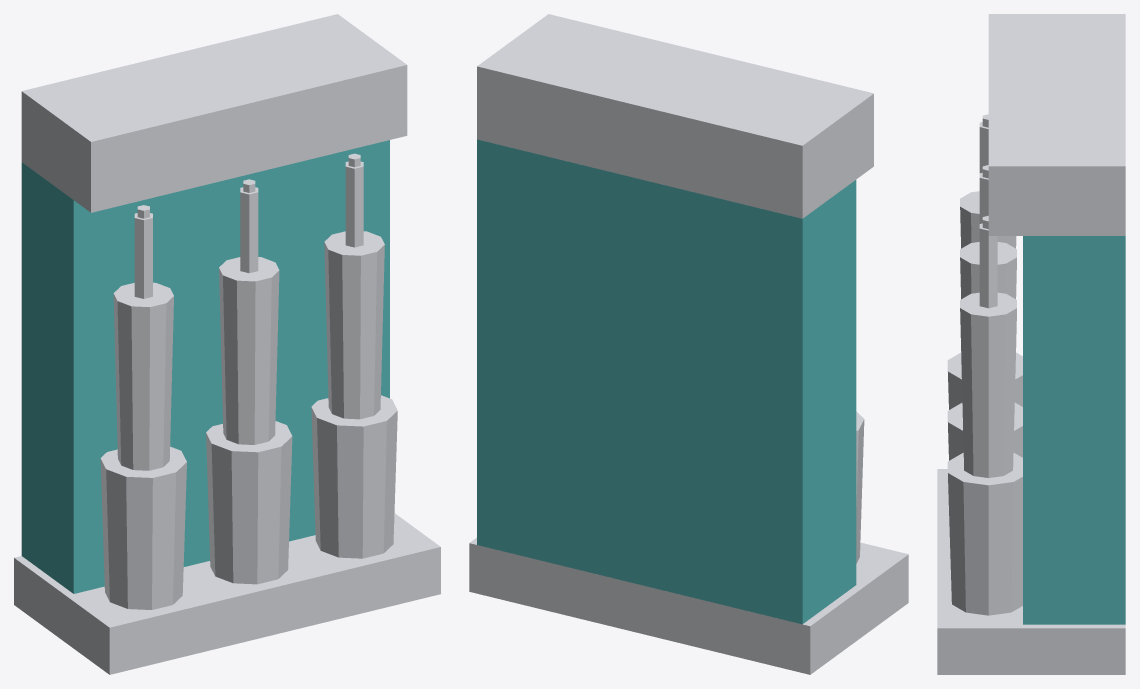
File: retro-diner-and-roadside-motel-milkshake-mixer-1b64f82b__37336.glb
3 renders of one model, left to right at view 1: azimuth 30°, elevation 25°; view 2: azimuth 150°, elevation 25°; view 3: azimuth 270°, elevation 25°, orthographic. The views are drawn at different scales.
Parts seen in each view (by area): view 1: milkshake-mixer-chrome, milkshake-mixer-turquoise, spindle; view 2: milkshake-mixer-turquoise, milkshake-mixer-chrome; view 3: milkshake-mixer-chrome, milkshake-mixer-turquoise, spindle.
Part boxes in pixels (<box>): milkshake-mixer-chrome: <box>14,14,440,674</box>; milkshake-mixer-turquoise: <box>21,140,389,593</box>; spindle: <box>113,153,384,470</box>; milkshake-mixer-turquoise: <box>477,139,856,624</box>; milkshake-mixer-chrome: <box>469,14,908,674</box>; milkshake-mixer-chrome: <box>937,14,1125,674</box>; milkshake-mixer-turquoise: <box>1023,236,1125,624</box>; spindle: <box>960,114,1016,477</box>.
Size of the model in its own units: 0.44 by 0.65 by 0.22.
